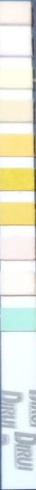color 1: (1, 4, 29, 23)
color 10: (1, 309, 36, 329)
color 2: (1, 38, 30, 55)
color 3: (1, 68, 31, 86)
color 4: (1, 102, 31, 120)
color 5: (1, 136, 34, 155)
color 6: (1, 169, 33, 189)
color 7: (1, 203, 34, 224)
color 8: (2, 239, 34, 259)
color 9: (2, 273, 34, 293)
